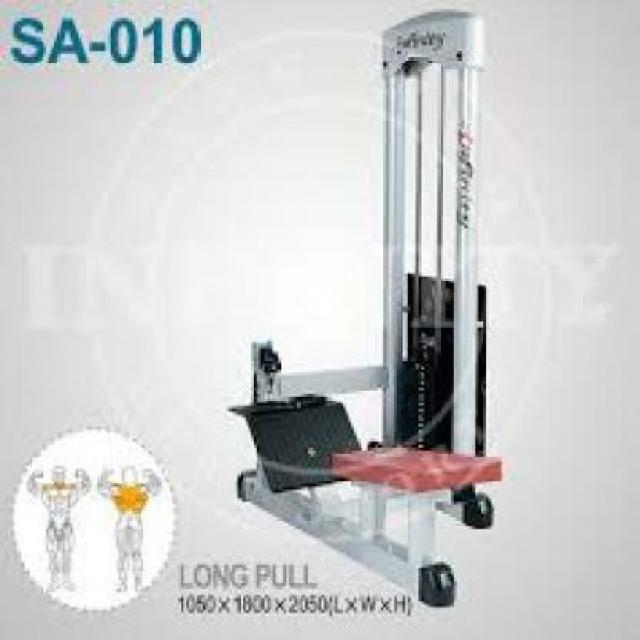Seated Cable Rows: (217, 9, 528, 617)
